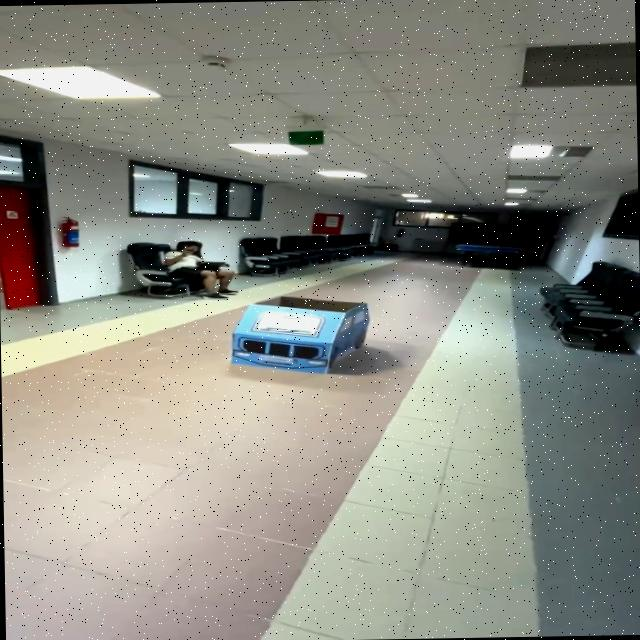blue_car: (220, 281, 400, 383)
